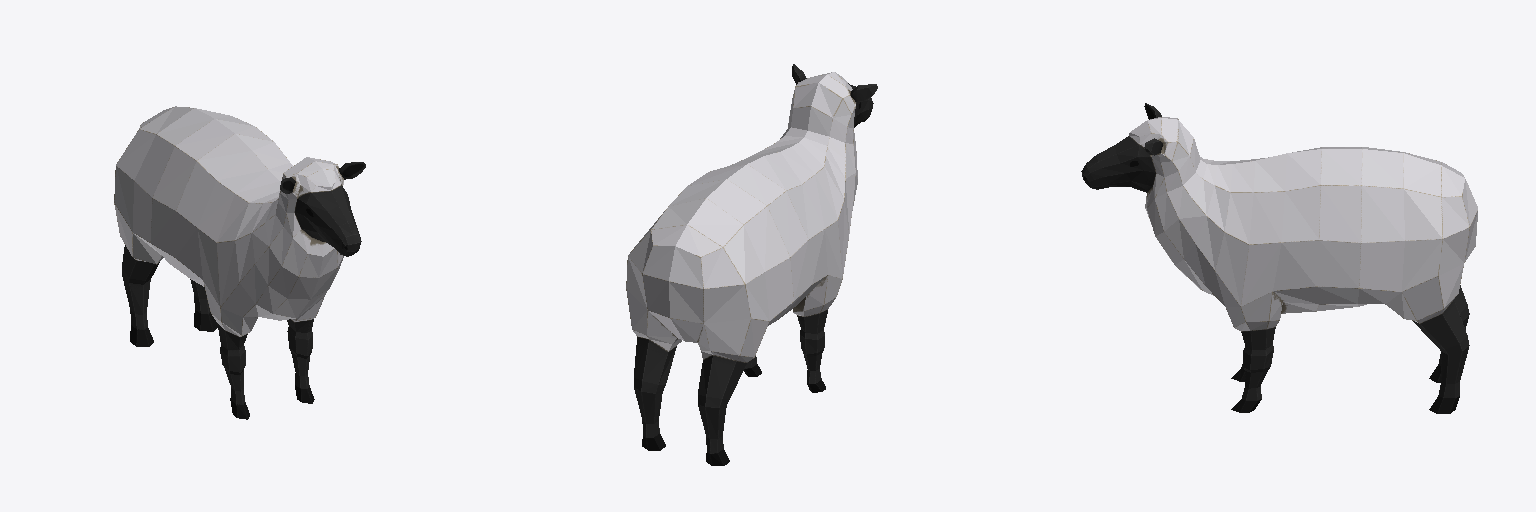
3 renders of one model, left to right at view 1: azimuth 30°, elevation 25°; view 2: azimuth 150°, elevation 25°; view 3: azimuth 270°, elevation 25°, orthographic.
Parts seen in each view (by area): view 1: Sheep_mesh; view 2: Sheep_mesh; view 3: Sheep_mesh.
Part boxes in pixels (bbox=[...]): Sheep_mesh: bbox=[114, 106, 365, 419]; Sheep_mesh: bbox=[626, 64, 877, 465]; Sheep_mesh: bbox=[1081, 103, 1477, 413].
Bounding box in the file's own units: 2.46 × 4.93 × 6.42.
Materials: 1 (1 with a texture image).